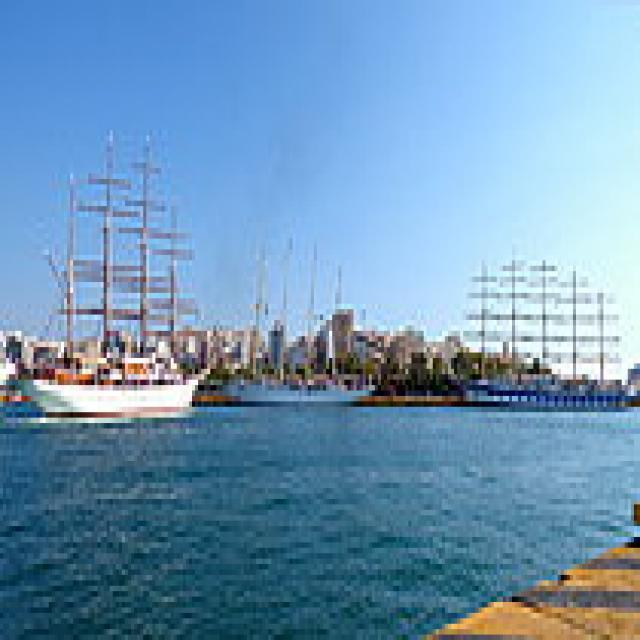Ship: (10, 104, 224, 430)
